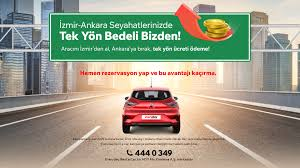car: (122, 84, 184, 130)
